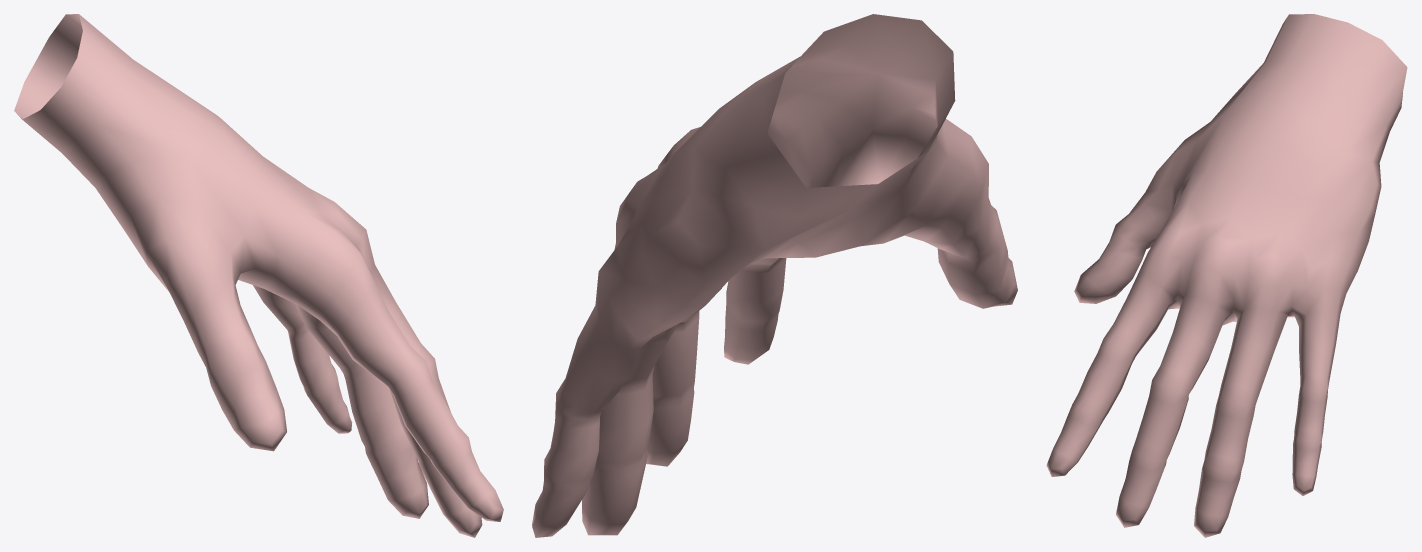
The model's file is Base_Female_A_Hand02.fbx.
3 renders of one model, left to right at view 1: azimuth 30°, elevation 25°; view 2: azimuth 150°, elevation 25°; view 3: azimuth 270°, elevation 25°, orthographic. The views are drawn at different scales.
Visible parts, largest first — view 1: Base_Female_A_Hand02; view 2: Base_Female_A_Hand02; view 3: Base_Female_A_Hand02.
Part boxes in pixels (x1,y1,x2,y2): Base_Female_A_Hand02: (14, 14, 503, 537); Base_Female_A_Hand02: (532, 14, 1017, 537); Base_Female_A_Hand02: (1046, 14, 1407, 537).
Bounding box in the file's own units: 0.801 × 1.15 × 0.9041.
